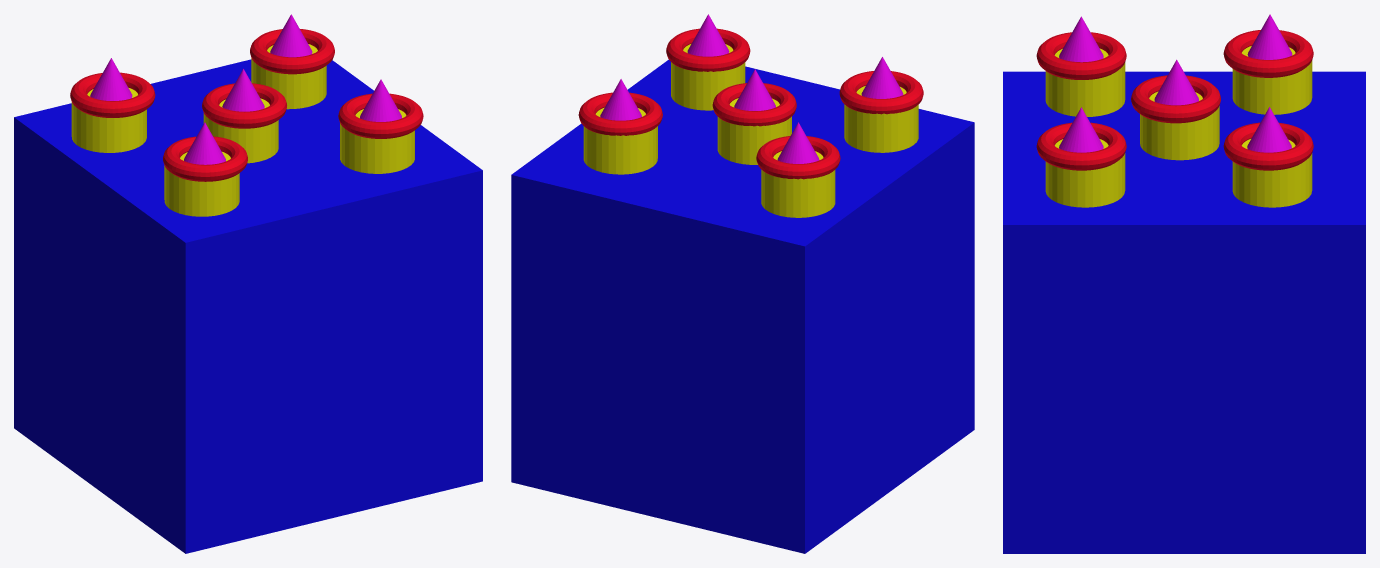
File: blueresearch.glb
The picture shows the model from 3 angles, left to right: view 1: azimuth 30°, elevation 25°; view 2: azimuth 150°, elevation 25°; view 3: azimuth 270°, elevation 25°; orthographic projection. The views are drawn at different scales.
Parts seen in each view (by area): view 1: Cube, Cylinder.004, Cylinder, Cylinder.003, Torus.003, Torus.002, Torus.004, Torus.001, Torus, Cylinder.002, Cylinder.005, Cone.001 (+4 smaller); view 2: Cube, Cylinder.002, Cylinder, Cylinder.004, Cylinder.003, Cylinder.005, Torus, Torus.001, Torus.004, Torus.002, Torus.003, Cone.002 (+4 smaller); view 3: Cube, Cylinder.003, Cylinder.002, Cylinder.005, Cylinder, Cylinder.004, Torus.002, Torus.001, Torus, Torus.004, Torus.003, Cone.001 (+4 smaller).
Part boxes in pixels (<box>): Cube: <box>14,59,482,553</box>; Cylinder.004: <box>164,151,239,216</box>; Cylinder: <box>71,87,146,152</box>; Cylinder.003: <box>340,109,414,173</box>; Torus.003: <box>163,136,247,181</box>; Torus.002: <box>338,93,423,138</box>; Torus.004: <box>202,83,286,128</box>; Torus.001: <box>250,29,334,74</box>; Torus: <box>70,72,155,117</box>; Cylinder.002: <box>251,44,326,109</box>; Cylinder.005: <box>203,98,278,163</box>; Cone.001: <box>270,14,312,57</box>; Cube: <box>511,59,974,553</box>; Cylinder.002: <box>583,107,657,174</box>; Cylinder: <box>761,151,835,217</box>; Cylinder.004: <box>844,86,918,152</box>; Cylinder.003: <box>671,44,745,110</box>; Cylinder.005: <box>717,98,791,164</box>; Torus: <box>756,136,840,179</box>; Torus.001: <box>578,92,662,135</box>; Torus.004: <box>712,83,796,126</box>; Torus.002: <box>666,28,750,71</box>; Torus.003: <box>839,71,923,114</box>; Cone.002: <box>687,14,729,56</box>; Cube: <box>1003,71,1365,553</box>; Cylinder.003: <box>1045,139,1125,207</box>; Cylinder.002: <box>1232,139,1312,207</box>; Cylinder.005: <box>1140,91,1219,160</box>; Cylinder: <box>1232,46,1312,114</box>; Cylinder.004: <box>1045,48,1125,116</box>; Torus.002: <box>1036,122,1126,170</box>; Torus.001: <box>1223,122,1313,170</box>; Torus: <box>1223,30,1313,77</box>; Torus.004: <box>1131,75,1220,123</box>; Torus.003: <box>1036,32,1126,79</box>; Cone.001: <box>1247,107,1291,152</box>.
Bounding box in the file's own units: 9.03 × 11.35 × 9.03.
